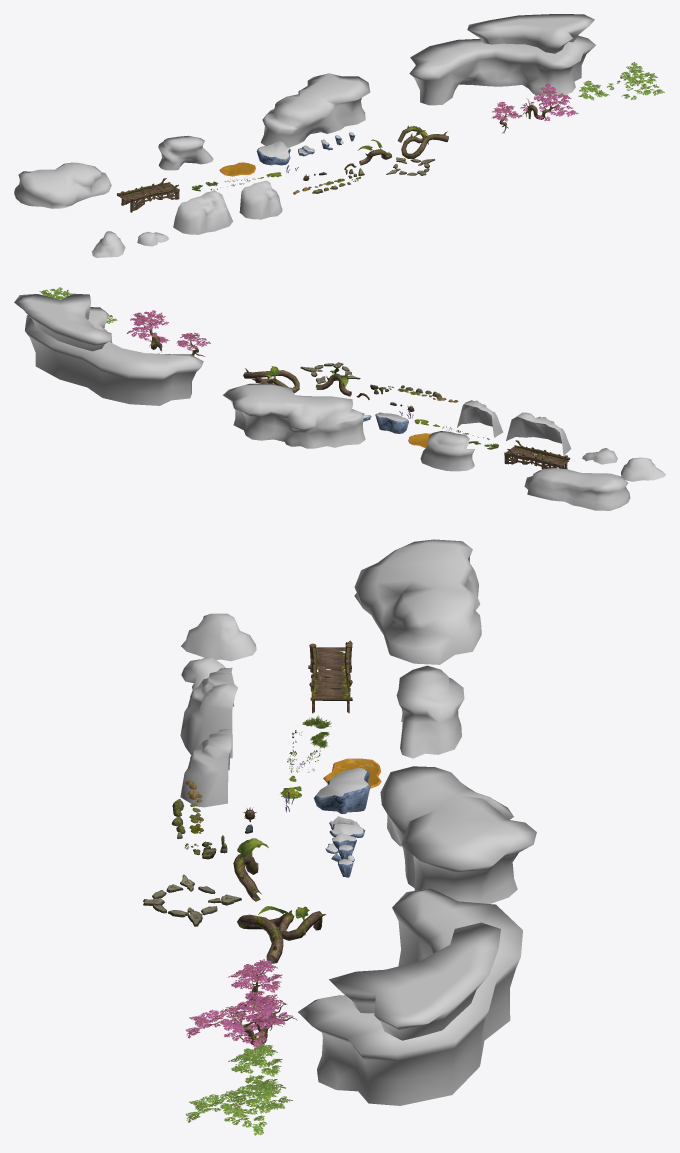
Rendered from f_1157_modules.FBX.
The picture shows the model from 3 angles, top to bottom: view 1: azimuth 30°, elevation 25°; view 2: azimuth 150°, elevation 25°; view 3: azimuth 270°, elevation 25°; orthographic projection. The views are drawn at different scales.
Parts seen in each view (by area): view 1: f_1157_hill_a, f_1157_hill_b, f_1157_hill_d, f_1157_bigstone_b, f_1157_hill_c, f_1157_bigstone_a, f_1157_woodbrigde, f_1157_leaves_d, f_1157_leaves_b, f_1157_tree_c, f_1157_hive_e, f_1157_bigstone_d (+2 smaller); view 2: f_1157_hill_a, f_1157_hill_b, f_1157_hill_d, f_1157_hill_c, f_1157_bigstone_b, f_1157_woodbrigde, f_1157_bigstone_a, f_1157_bigstone_d, f_1157_leaves_b, f_1157_tree_c, f_1157_hive_e, f_1157_stone_born (+2 smaller); view 3: f_1157_hill_a, f_1157_hill_b, f_1157_hill_d, f_1157_hill_c, f_1157_bigstone_b, f_1157_bigstone_a, f_1157_leaves_d, f_1157_bigstone_d, f_1157_leaves_b, f_1157_woodbrigde, f_1157_tree_c, f_1157_hive_e (+4 smaller).
Part boxes in pixels (x1,y1,x2,y2): f_1157_hill_a: (409,14,595,105); f_1157_hill_b: (260,73,370,147); f_1157_hill_d: (14,162,111,208); f_1157_bigstone_b: (173,190,233,234); f_1157_hill_c: (158,135,213,170); f_1157_bigstone_a: (239,180,282,219); f_1157_woodbrigde: (117,178,179,212); f_1157_leaves_d: (607,62,664,99); f_1157_leaves_b: (520,83,578,120); f_1157_tree_c: (397,125,448,158); f_1157_hive_e: (256,141,290,165); f_1157_bigstone_d: (91,231,125,257); f_1157_hill_a: (14,293,203,405); f_1157_hill_b: (223,383,365,448); f_1157_hill_d: (524,468,630,510); f_1157_hill_c: (420,431,474,471); f_1157_bigstone_b: (506,412,571,455); f_1157_woodbrigde: (504,440,570,469); f_1157_bigstone_a: (457,400,503,437); f_1157_bigstone_d: (621,457,665,481); f_1157_leaves_b: (127,310,169,343); f_1157_tree_c: (243,366,299,393); f_1157_hive_e: (375,412,408,433); f_1157_stone_born: (300,362,360,383); f_1157_hill_a: (298,888,522,1105); f_1157_hill_b: (380,766,536,903); f_1157_hill_d: (354,539,481,664); f_1157_hill_c: (396,665,464,758); f_1157_bigstone_b: (180,667,237,758); f_1157_bigstone_a: (180,729,232,807); f_1157_leaves_d: (185,1079,292,1135); f_1157_bigstone_d: (181,613,256,661); f_1157_leaves_b: (186,994,293,1051); f_1157_woodbrigde: (308,640,352,713); f_1157_tree_c: (237,906,326,963); f_1157_hive_e: (313,767,370,813).
Bounding box in the file's own units: 7134 × 791 × 2060.
